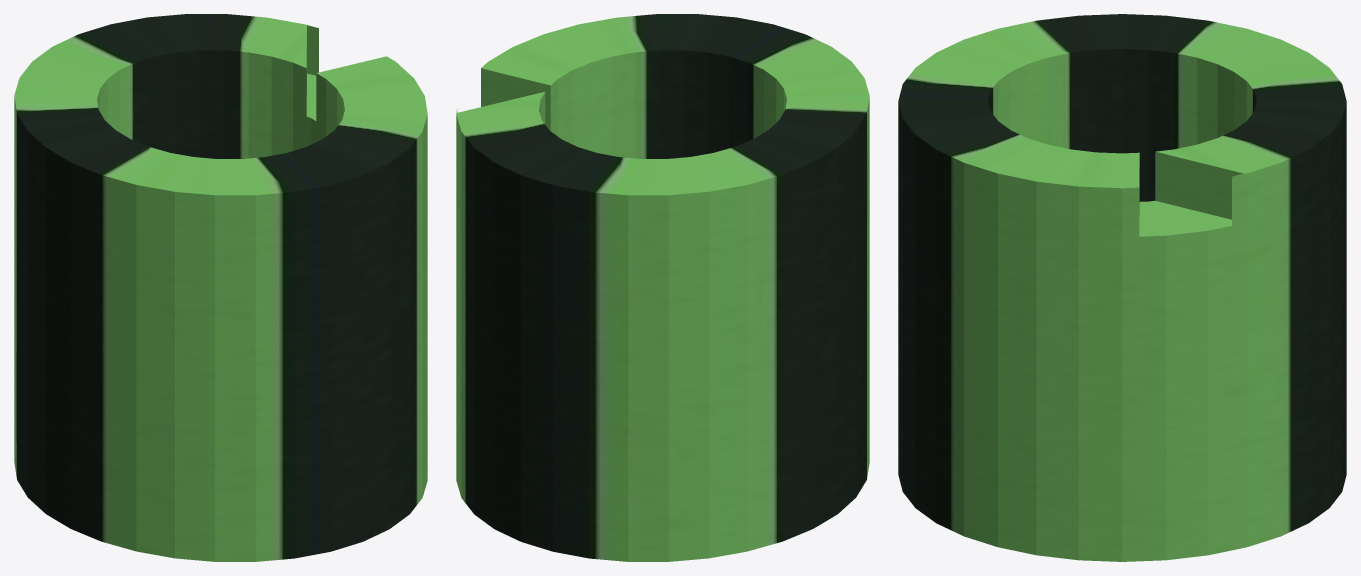
The picture shows the model from 3 angles, left to right: view 1: azimuth 30°, elevation 25°; view 2: azimuth 150°, elevation 25°; view 3: azimuth 270°, elevation 25°; orthographic projection.
Parts seen in each view (by area): view 1: geometry_0; view 2: geometry_0; view 3: geometry_0.
Part boxes in pixels (x1=…): geometry_0: x1=14, y1=14, x2=427, y2=561; geometry_0: x1=456, y1=14, x2=869, y2=561; geometry_0: x1=898, y1=14, x2=1346, y2=561.
Bounding box in the file's own units: 0.7898 × 0.7898 × 0.8585.
Materials: 1 (1 with a texture image).
